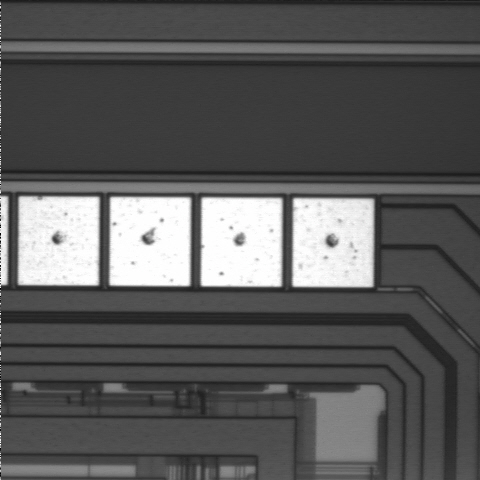pad: (109, 197, 191, 286), (292, 198, 374, 287), (201, 198, 282, 287), (18, 197, 99, 285)
